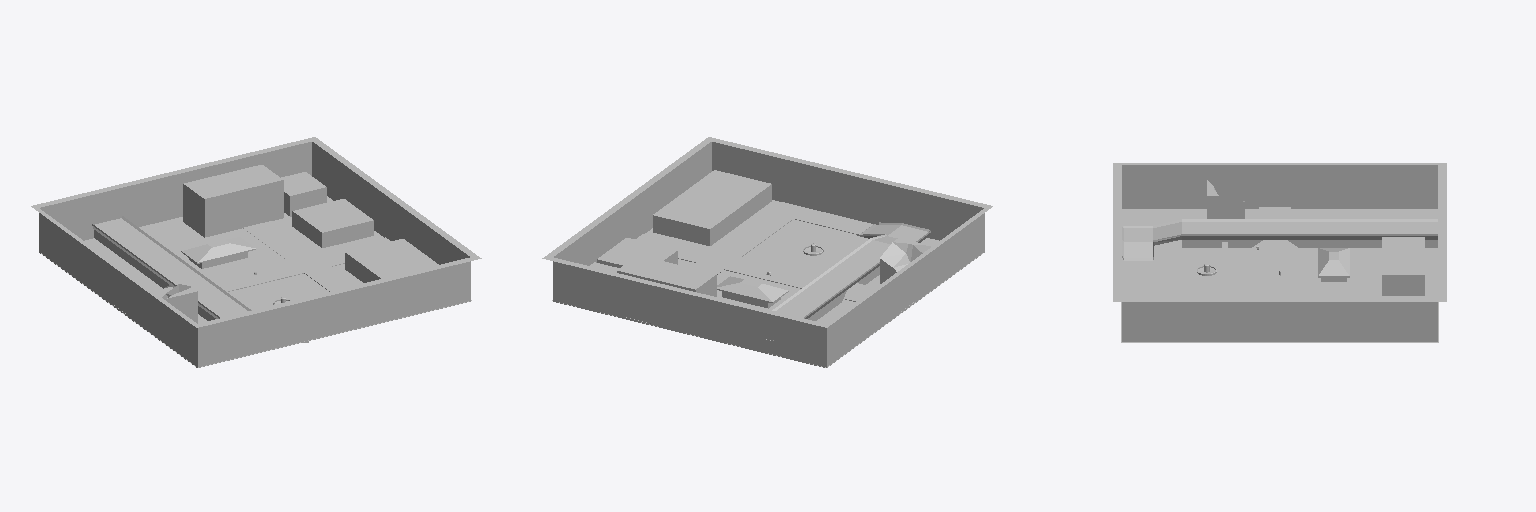
Rendered from White_Box_Project1.obj.
3 renders of one model, left to right at view 1: azimuth 30°, elevation 25°; view 2: azimuth 150°, elevation 25°; view 3: azimuth 270°, elevation 25°, orthographic.
Visible parts, largest first — view 1: Wall, Ground, Building_Debris, Bridge, Road, Building_2.001, Parking_G, Building_2, Diner, Building_1; view 2: Wall, Ground, Road, Parking_G, Bridge, Building_Debris, Diner, Building_2.001, Building_1; view 3: Wall, Ground, Bridge, Road, Building_Debris, Diner, Building_1.
Part boxes in pixels (left/top/right/bottom): Wall: left=31, top=137, right=481, bottom=367; Ground: left=41, top=196, right=471, bottom=367; Building_Debris: left=183, top=165, right=283, bottom=237; Bridge: left=92, top=216, right=308, bottom=342; Road: left=112, top=221, right=389, bottom=315; Building_2.001: left=292, top=199, right=373, bottom=247; Parking_G: left=345, top=239, right=438, bottom=282; Building_2: left=281, top=172, right=326, bottom=216; Diner: left=181, top=237, right=255, bottom=268; Building_1: left=162, top=284, right=197, bottom=323; Wall: left=542, top=137, right=992, bottom=367; Ground: left=552, top=200, right=982, bottom=367; Road: left=624, top=202, right=915, bottom=323; Parking_G: left=653, top=170, right=771, bottom=245; Bridge: left=743, top=222, right=930, bottom=353; Building_Debris: left=617, top=255, right=716, bottom=296; Diner: left=717, top=276, right=788, bottom=308; Building_2.001: left=597, top=238, right=677, bottom=267; Building_1: left=880, top=238, right=930, bottom=283; Wall: left=1113, top=163, right=1446, bottom=341; Ground: left=1121, top=209, right=1438, bottom=342; Bridge: left=1122, top=219, right=1437, bottom=260; Road: left=1124, top=207, right=1438, bottom=341; Building_Debris: left=1382, top=237, right=1424, bottom=295; Diner: left=1318, top=248, right=1349, bottom=281; Building_1: left=1207, top=180, right=1244, bottom=218.
Size of the model in its own units: 104 by 16.39 by 105.